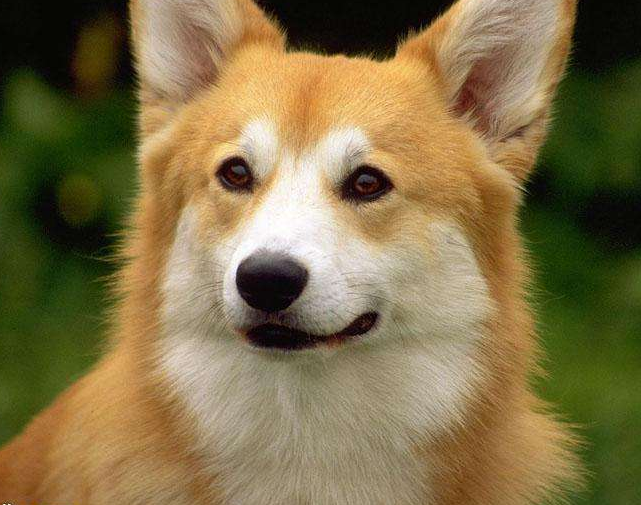nose: (230, 246, 317, 314)
